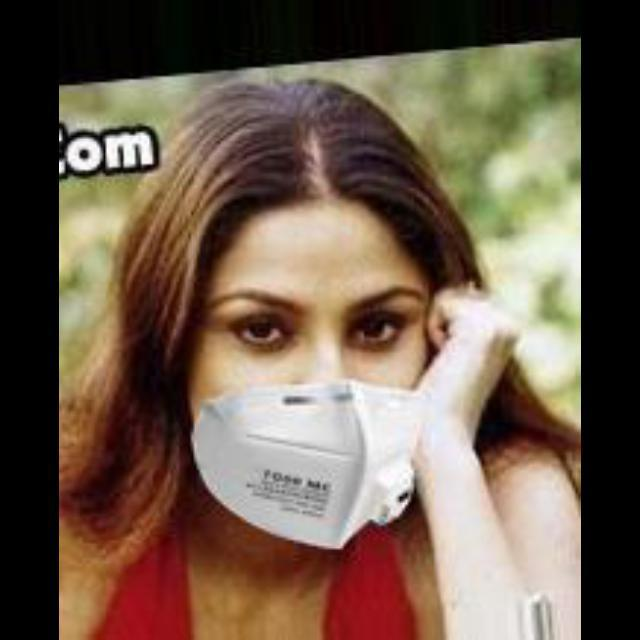suspicion: (132, 70, 500, 542)
